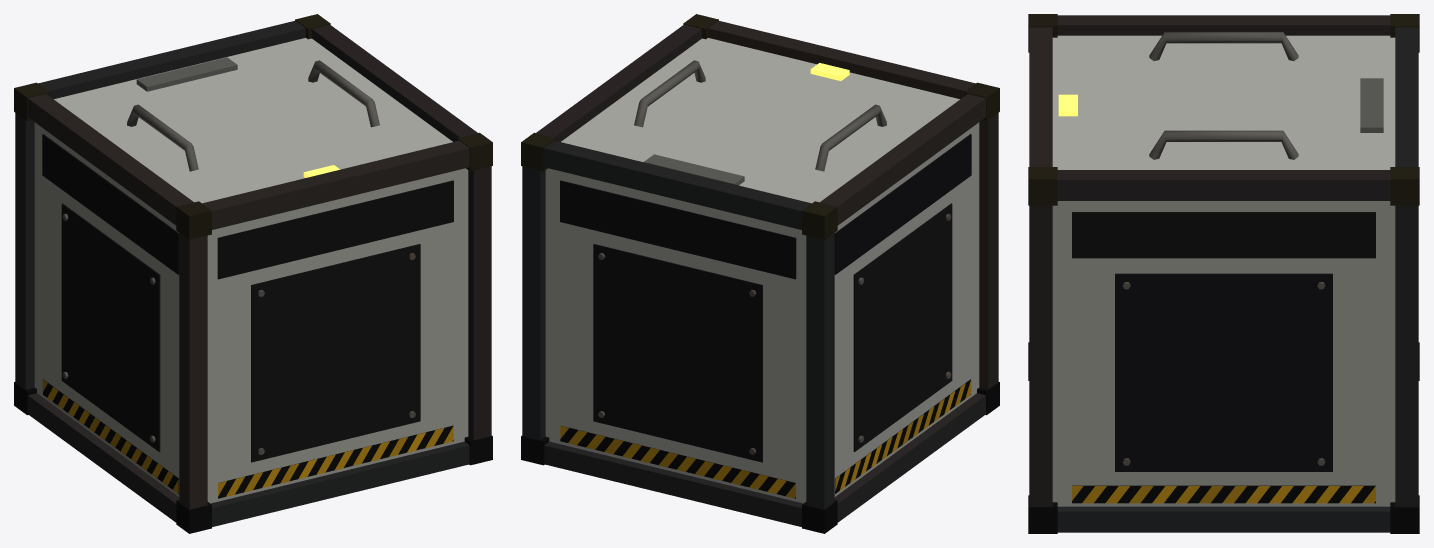
The model's file is item_crate.glb.
3 renders of one model, left to right at view 1: azimuth 30°, elevation 25°; view 2: azimuth 150°, elevation 25°; view 3: azimuth 270°, elevation 25°, orthographic. The views are drawn at different scales.
Visible parts, largest first — view 1: Crate; view 2: Crate; view 3: Crate.
Part boxes in pixels (x1=…): Crate: x1=14, y1=14, x2=492, y2=533; Crate: x1=521, y1=14, x2=999, y2=533; Crate: x1=1028, y1=14, x2=1419, y2=533.
Size of the model in its own units: 1 by 1.05 by 1.
